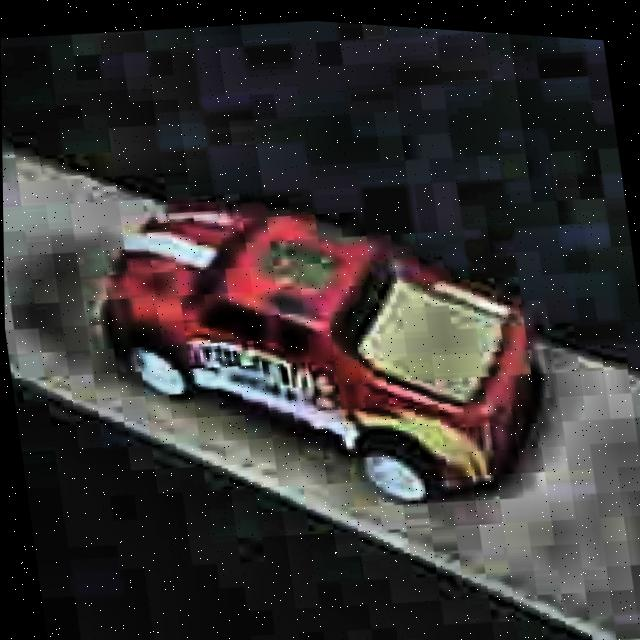car: (84, 150, 559, 553)
